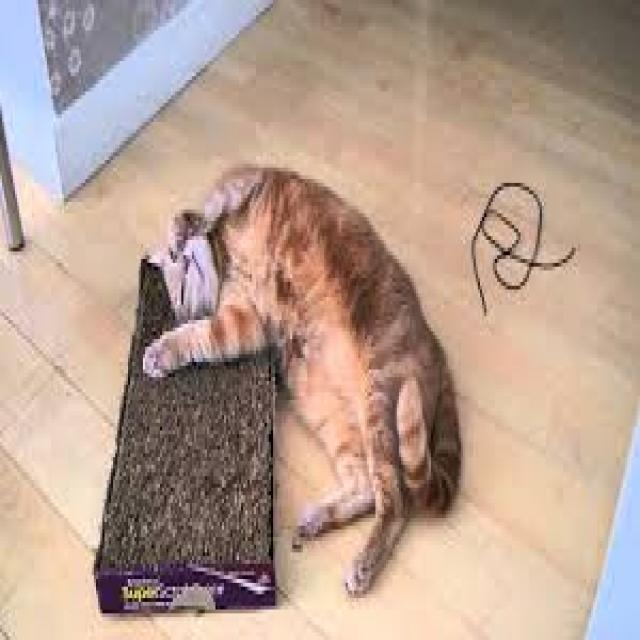cat: (142, 158, 464, 607)
